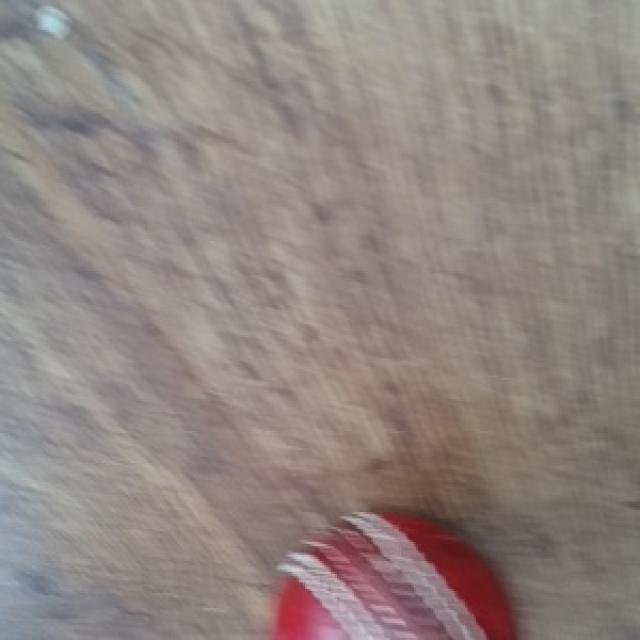ball: (271, 512, 521, 640)
